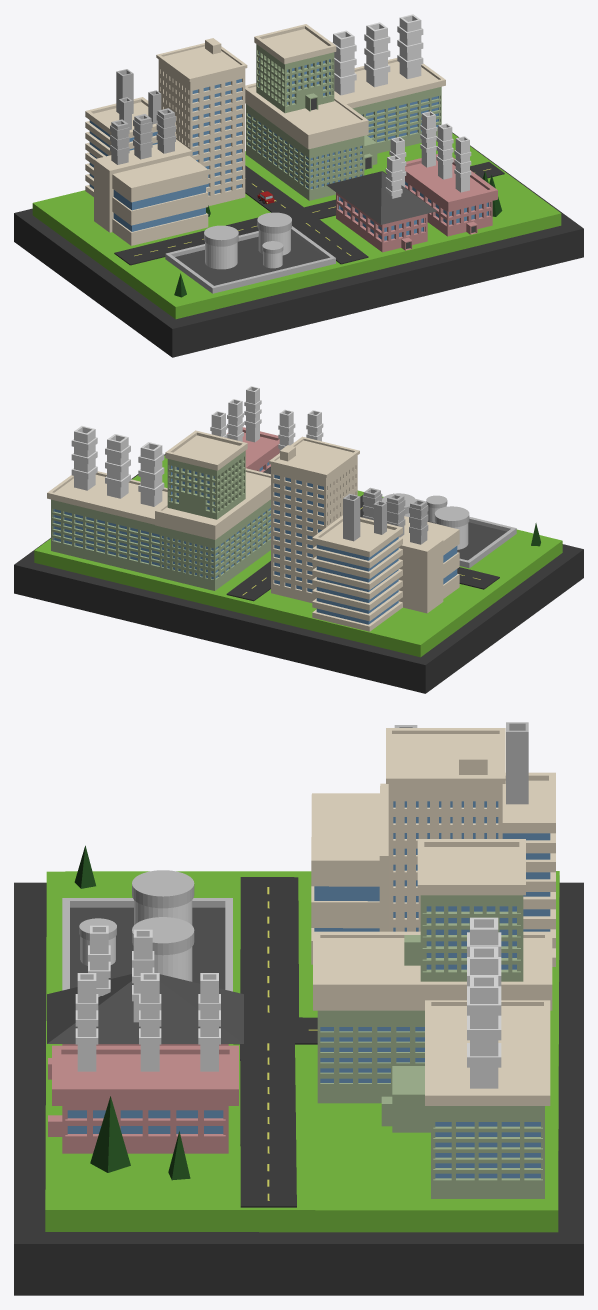
The picture shows the model from 3 angles, top to bottom: view 1: azimuth 30°, elevation 25°; view 2: azimuth 150°, elevation 25°; view 3: azimuth 270°, elevation 25°; orthographic projection. The views are drawn at different scales.
Visible parts, largest first — view 1: Under_land, Cube (×5), Cap_2 (×2), Cube.1 (×5), Cube.4 (×3), Land, Cube.6 (×2), Cube.10 (×5), Cube.2 (×2), Pyramid, Cube.5 (×2), Cube.7 (+7 smaller); view 2: Under_land, Cube (×5), Cube.1 (×4), Cap_2 (×2), Cube.4 (×4), Land, Cube.6 (×3), Cube.5 (×2), Cube.10 (×5), Cube.7 (×3), Cube.8, Cube.3 (+3 smaller); view 3: Cap_2 (×2), Under_land, Cube (×4), Cube.4 (×3), Cube.1 (×5), Land, Cube.5, Cube.10 (×7), Cube.2 (×2), Cube.6 (×2), Pyramid, Cube.7 (+7 smaller).
Part boxes in pixels (left/top/right/bottom): Under_land: left=14, top=132, right=583, bottom=357; Cube (×5): left=112, top=59, right=441, bottom=293; Cap_2 (×2): left=33, top=133, right=560, bottom=306; Cube.1 (×5): left=85, top=43, right=364, bottom=225; Cube.4 (×3): left=94, top=83, right=497, bottom=232; Land: left=32, top=203, right=561, bottom=319; Cube.6 (×2): left=256, top=30, right=354, bottom=113; Cube.10 (×5): left=366, top=14, right=469, bottom=192; Cube.2 (×2): left=112, top=180, right=492, bottom=245; Pyramid: left=326, top=171, right=436, bottom=224; Cube.5 (×2): left=157, top=58, right=445, bottom=153; Cube.7: left=254, top=24, right=336, bottom=64; Under_land: left=14, top=454, right=583, bottom=693; Cube (×5): left=51, top=455, right=516, bottom=602; Cube.1 (×4): left=160, top=436, right=402, bottom=590; Cap_2 (×2): left=34, top=455, right=561, bottom=644; Cube.4 (×4): left=155, top=427, right=443, bottom=613; Land: left=34, top=541, right=562, bottom=657; Cube.6 (×3): left=140, top=442, right=402, bottom=621; Cube.5 (×2): left=47, top=471, right=402, bottom=610; Cube.10 (×5): left=74, top=386, right=293, bottom=498; Cube.7 (×3): left=165, top=430, right=402, bottom=631; Cube.8: left=316, top=536, right=398, bottom=624; Cube.3: left=312, top=559, right=402, bottom=589; Cap_2 (×2): left=45, top=871, right=559, bottom=1210; Under_land: left=14, top=882, right=583, bottom=1295; Cube (×4): left=62, top=784, right=544, bottom=1198; Cube.4 (×3): left=52, top=783, right=552, bottom=1105; Cube.1 (×5): left=311, top=722, right=555, bottom=1103; Land: left=45, top=875, right=559, bottom=1232; Cube.5: left=425, top=1000, right=550, bottom=1105; Cube.10 (×7): left=77, top=925, right=498, bottom=1088; Cube.2 (×2): left=62, top=1066, right=430, bottom=1153; Cube.6 (×2): left=420, top=895, right=523, bottom=981; Pyramid: left=47, top=974, right=243, bottom=1043; Cube.7: left=417, top=839, right=525, bottom=895.
Bounding box in the file's own units: 1500 × 632 × 1000.
